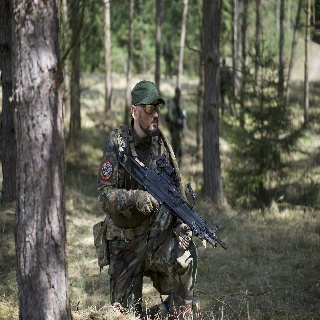rifle: (115, 149, 230, 254)
